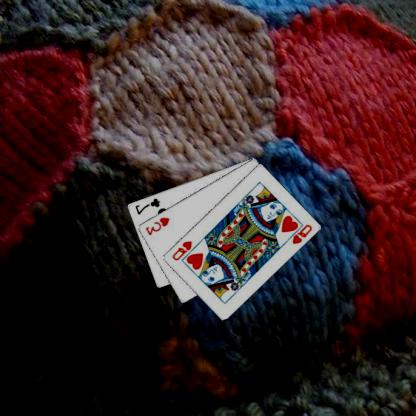3H: (144, 214, 172, 236)
7C: (134, 195, 163, 216)
QH: (284, 221, 315, 246), (171, 238, 195, 262)
